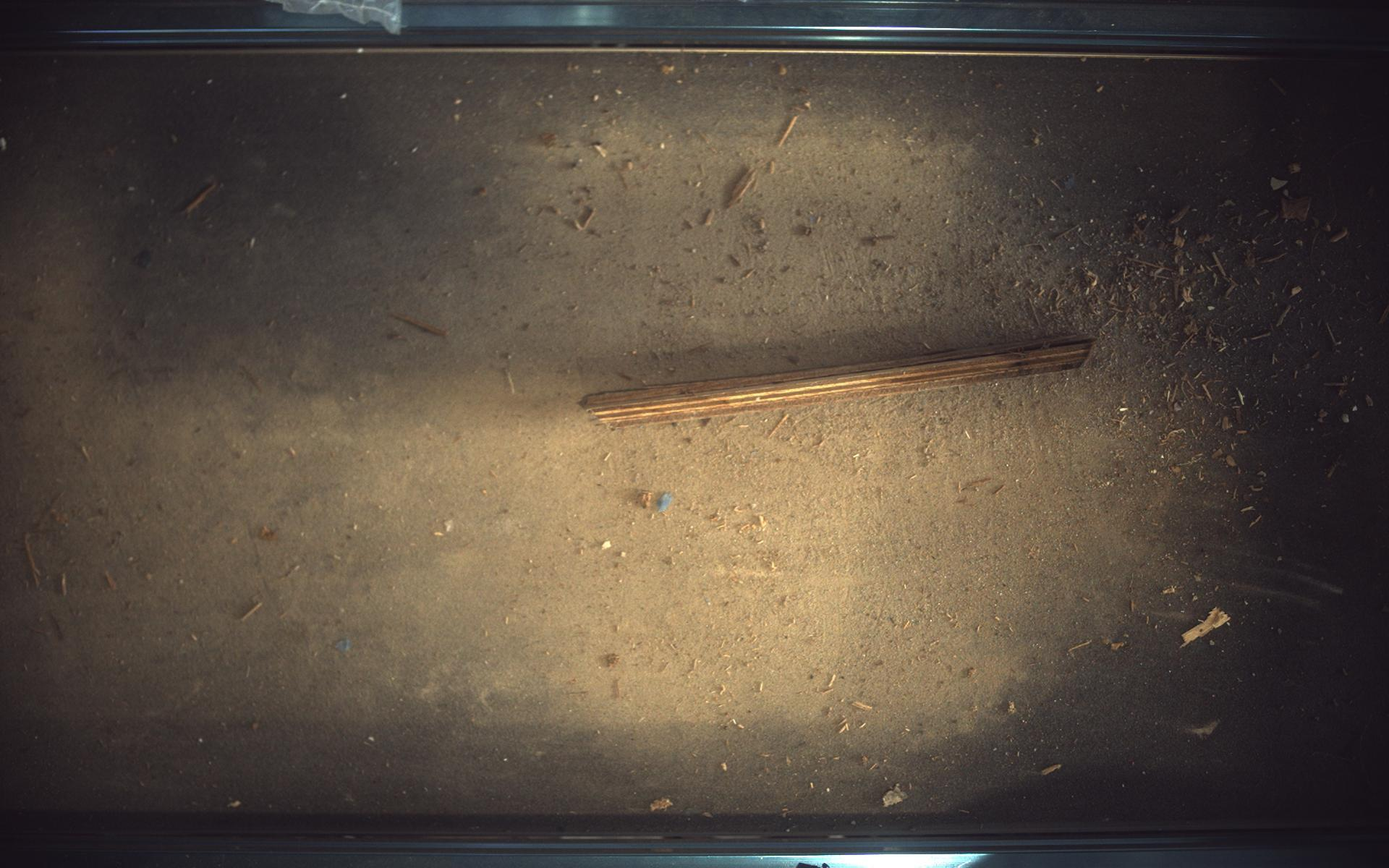wood: (582, 335, 1097, 425)
